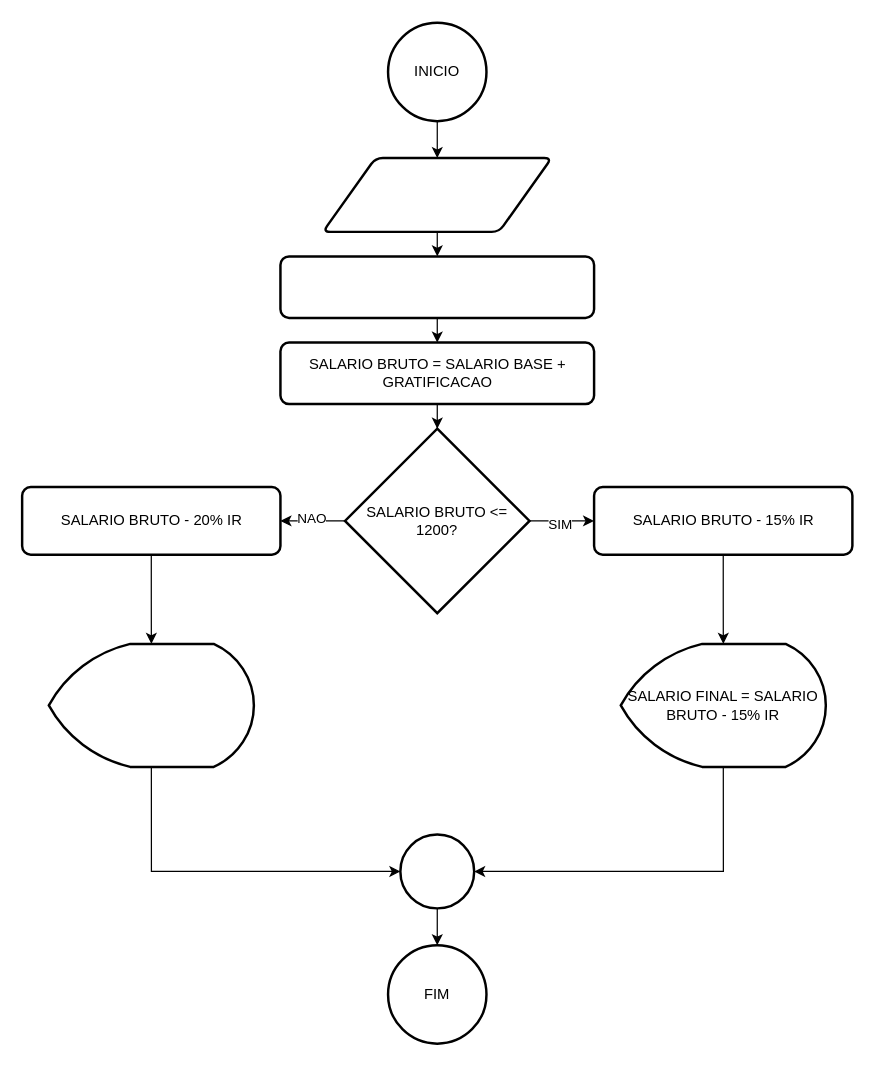
This 875x1065 diagram has some shape labels left out. The centre of each missing label's shape, as x and y in pixels:
"GRATIFICACAO = SALARIO BASE * 10%" goes at point 437,287.
"real SALARIO BASE" goes at point 436,194.
"SALARIO FINAL = SALARIO BRUTO - 20% IR" goes at point 150,705.
